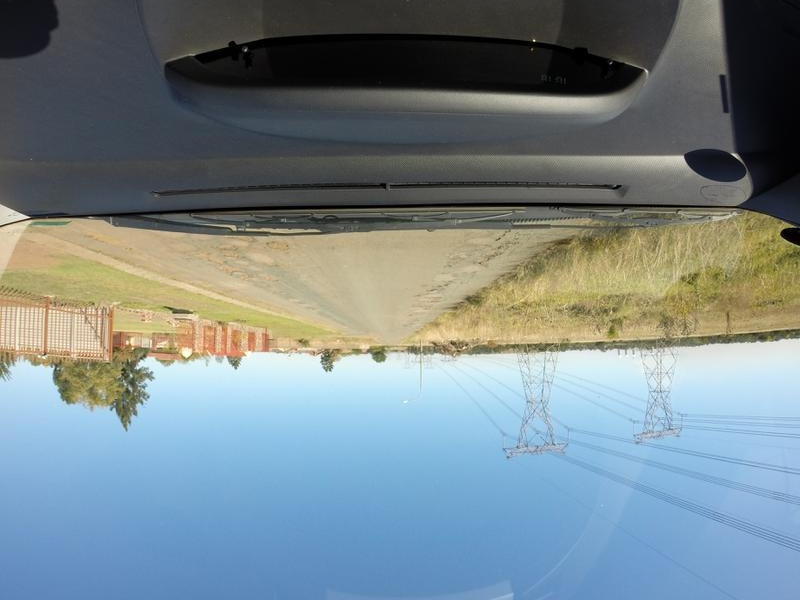pothole: (480, 242, 511, 268), (88, 232, 122, 249), (244, 253, 273, 267), (216, 266, 237, 280), (263, 241, 289, 249), (260, 275, 280, 285), (487, 230, 505, 238), (217, 244, 233, 252), (422, 287, 436, 295), (181, 247, 196, 254), (421, 299, 439, 303), (443, 262, 455, 267)
